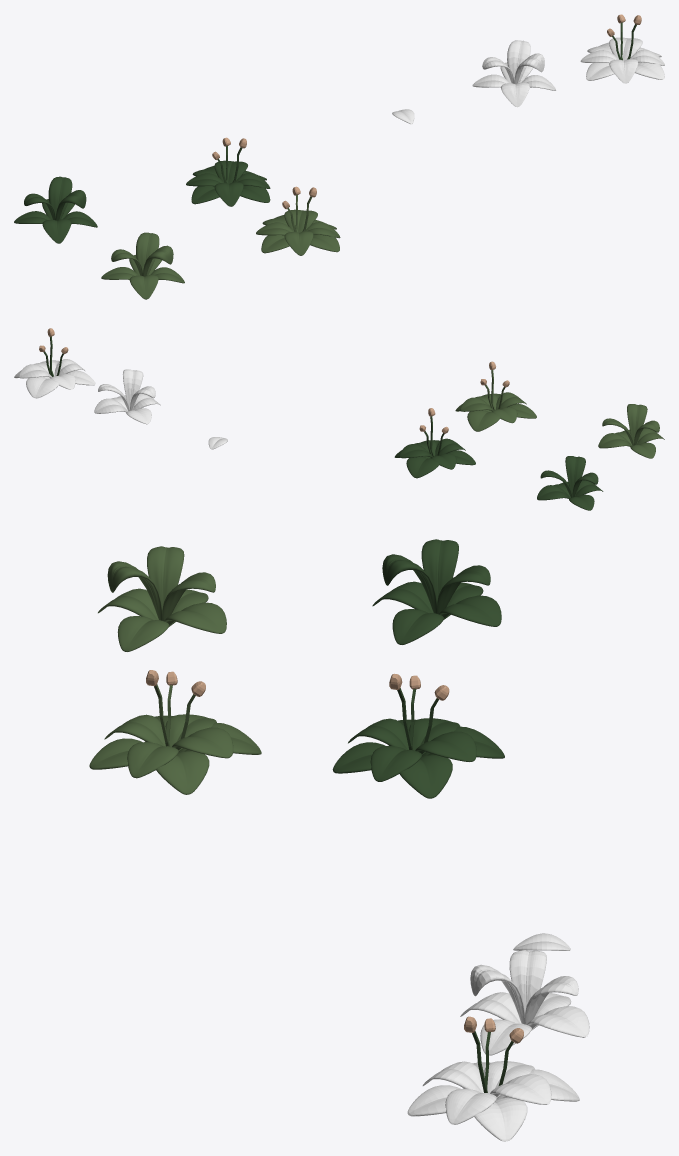
File: plants.fbx
The picture shows the model from 3 angles, top to bottom: view 1: azimuth 30°, elevation 25°; view 2: azimuth 150°, elevation 25°; view 3: azimuth 270°, elevation 25°; orthographic projection. The views are drawn at different scales.
Visible parts, largest first — view 1: Plane.011, Plane.031, Plane.017, Plane.010, Plane.005, Plane.015, Plane.008, Plane.014; view 2: Plane.011, Plane.031, Plane.010, Plane.017, Plane.022, Plane.003, Plane.007, Plane.014, Plane.006, Plane.015; view 3: Plane.010, Plane.017, Plane.011, Plane.031, Plane.023, Plane.004, Plane.020, Plane.007, Plane.014, Plane.003, Plane.015, Plane.024 (+3 smaller).
Boxes of the visible parts, x1,y1,x2,y2 form: Plane.011: (14,176,97,243); Plane.031: (101,232,184,299); Plane.017: (186,160,270,206); Plane.010: (256,209,340,255); Plane.005: (507,40,530,83); Plane.015: (609,59,638,83); Plane.008: (501,82,529,107); Plane.014: (609,37,642,60); Plane.011: (537,456,603,510); Plane.031: (598,404,664,458); Plane.010: (455,392,536,431); Plane.017: (394,438,475,478); Plane.022: (26,377,58,398); Plane.003: (123,369,143,410); Plane.007: (94,398,127,413); Plane.014: (19,364,51,378); Plane.006: (126,408,151,424); Plane.015: (54,359,84,375); Plane.010: (89,714,261,794); Plane.017: (332,718,504,798); Plane.011: (372,539,501,644); Plane.031: (98,546,226,651); Plane.023: (474,1097,527,1141); Plane.004: (509,950,546,1012); Plane.020: (445,1088,496,1124); Plane.007: (527,1006,589,1037); Plane.014: (490,1074,551,1104); Plane.003: (470,964,525,1024); Plane.015: (422,1061,487,1092); Plane.024: (407,1085,460,1116).
Bounding box in the file's own units: 58.63 × 5.64 × 22.29.
